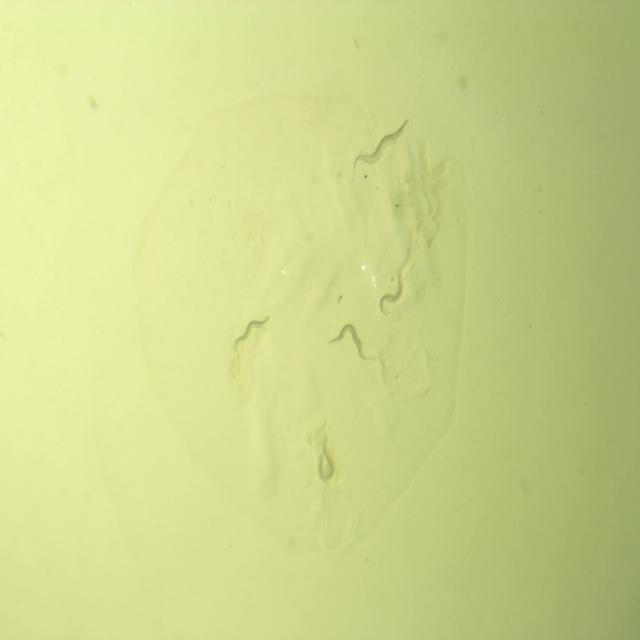worm: (359, 112, 414, 160), (326, 318, 378, 368), (350, 127, 402, 177), (230, 300, 273, 359), (374, 267, 406, 322), (312, 429, 338, 488)
